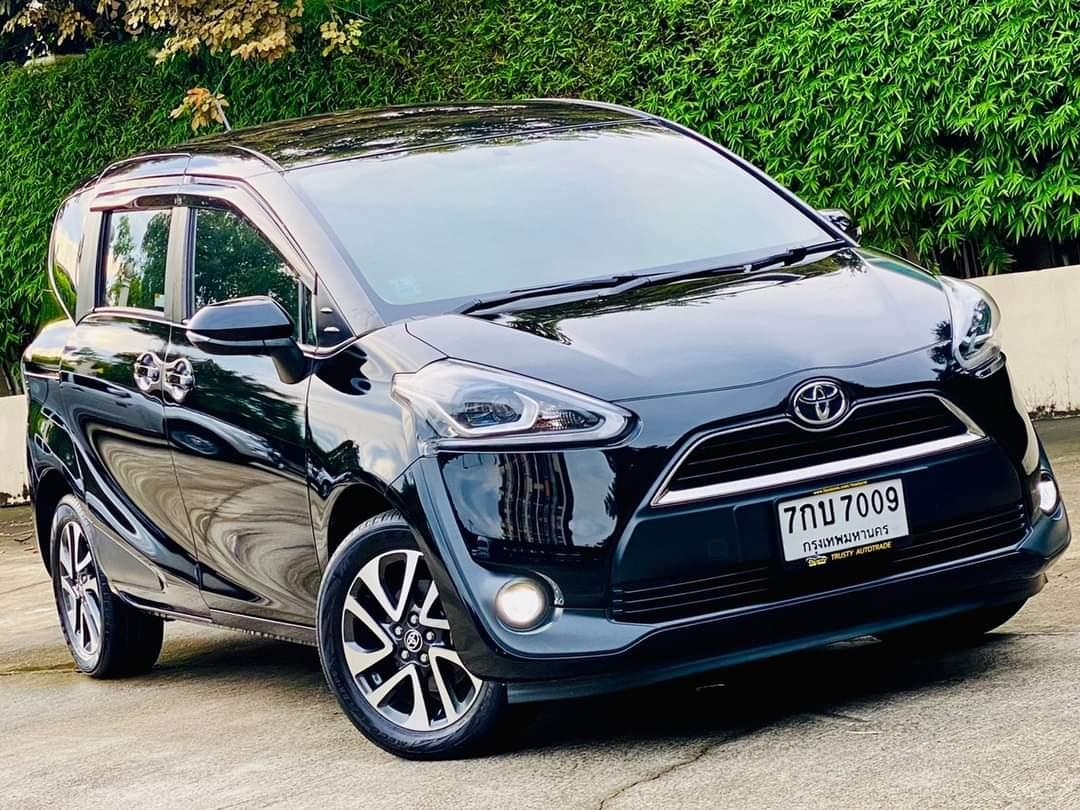license-plate: (768, 472, 917, 577)
